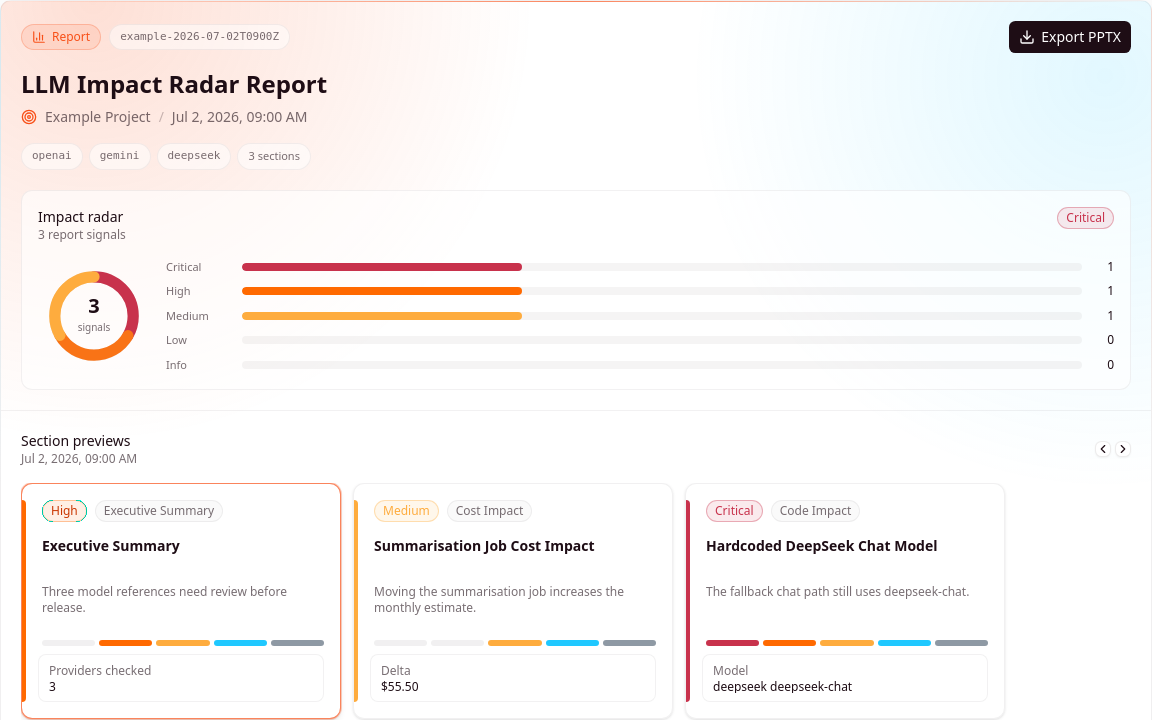
Test: ReportOutputView › refines selected report text in the shared modal chat
The image size is (1152, 720).
Click the button "Executive Summary". click: coordinates (181, 601)
box: [21,483,341,719]
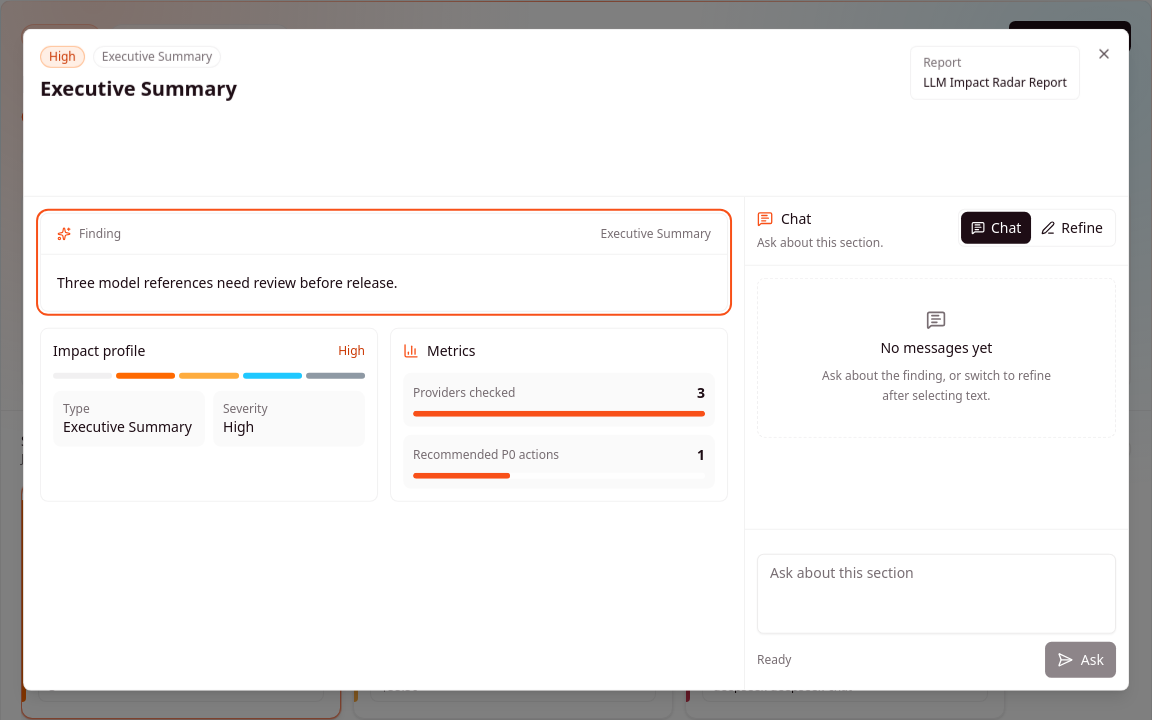
Click the button with aria-label "Refine mode". click: coordinates (1072, 228)
box: [1031,212,1113,244]
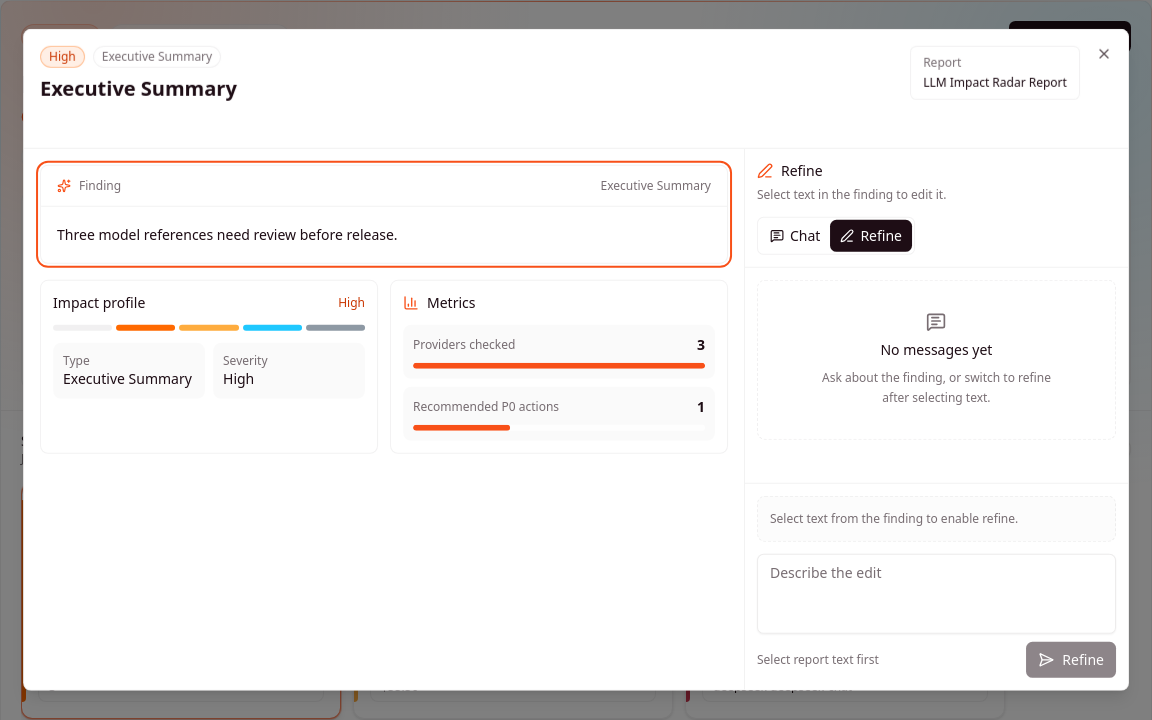
Type "Make this clearer" into the text box named "Question about report section". click: coordinates (936, 594)
box: [757,554,1116,634]
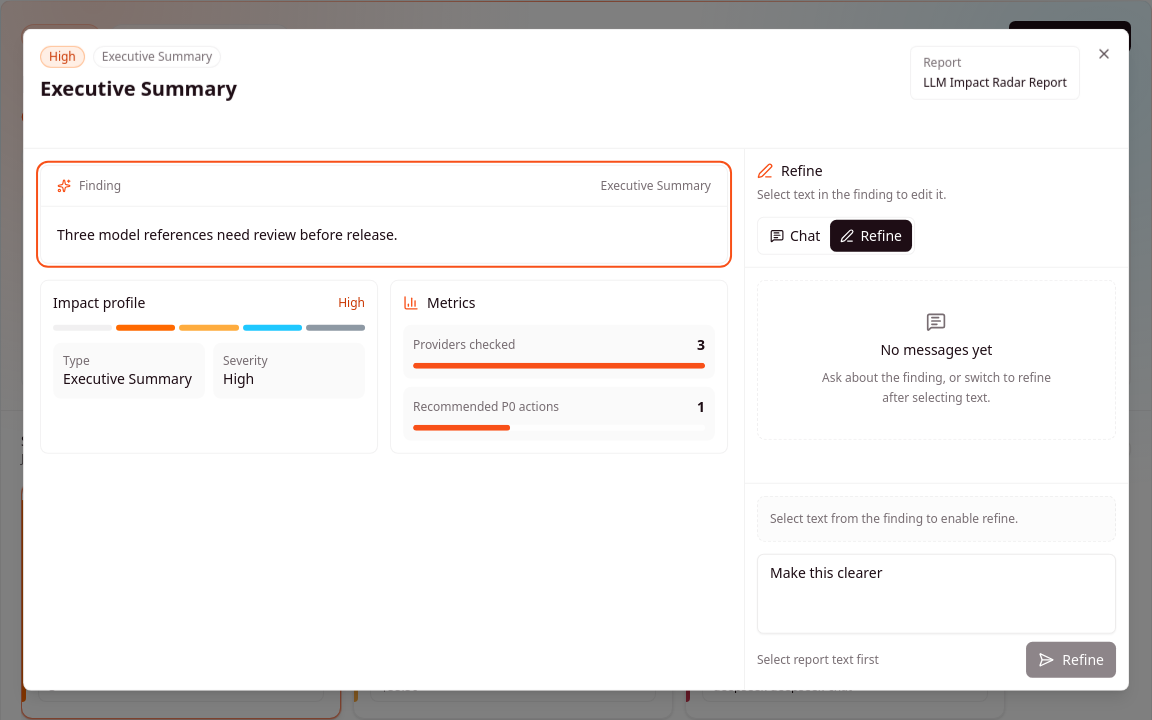
Press Enter in the text box named "Question about report section", box [757,554,1116,634]
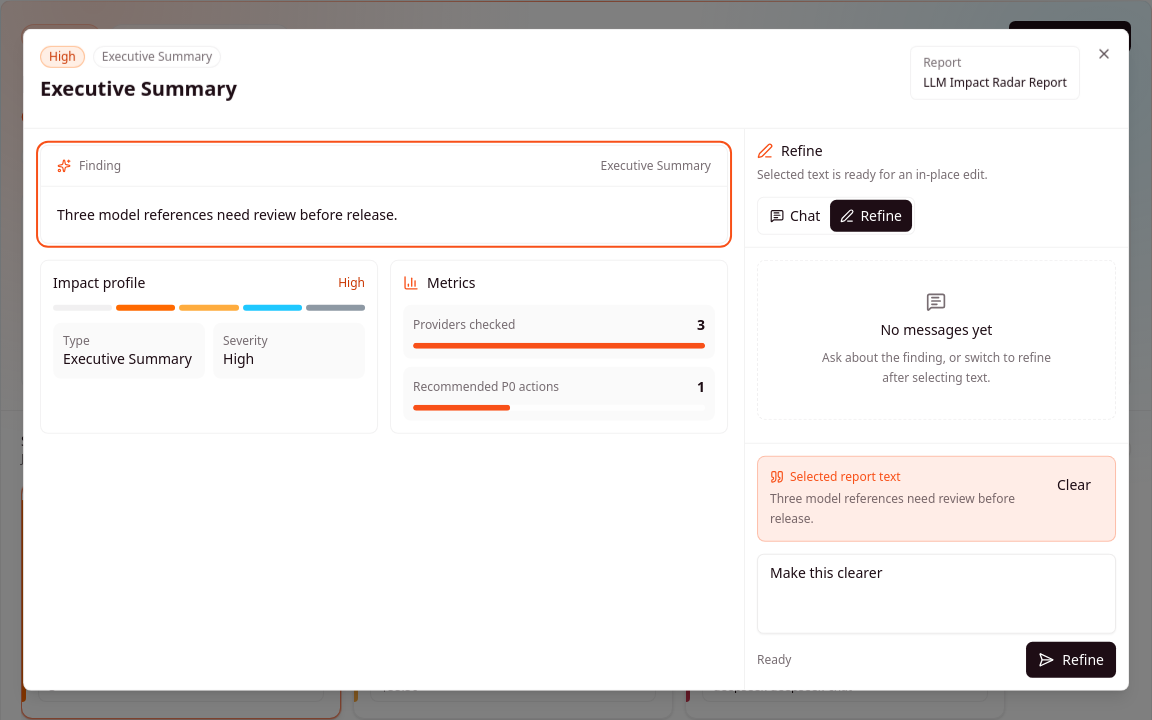
Press Enter in the text box named "Question about report section", box [757,554,1116,634]
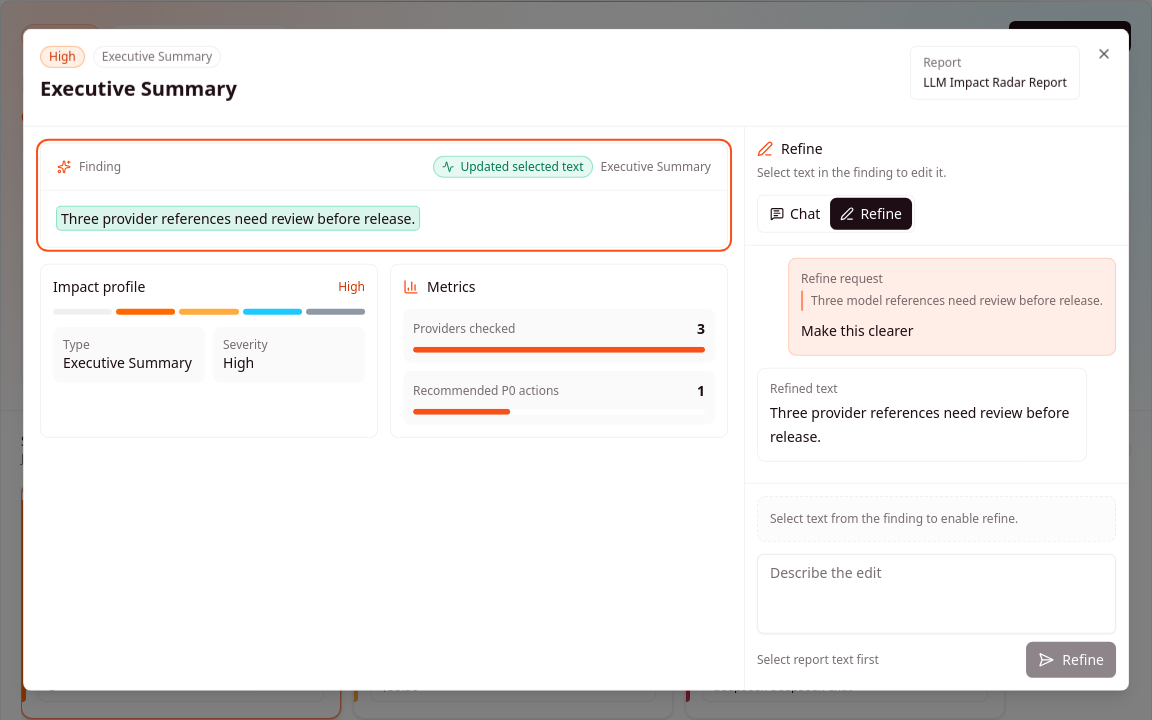
Check: the text "Three provider references need review before release." below "Updated selected text" is shown, box [61,209,415,228]
Check: the text "Refine request" is shown, box [801,270,883,287]
Check: the text "Refined text" is shown, box [770,380,838,397]
